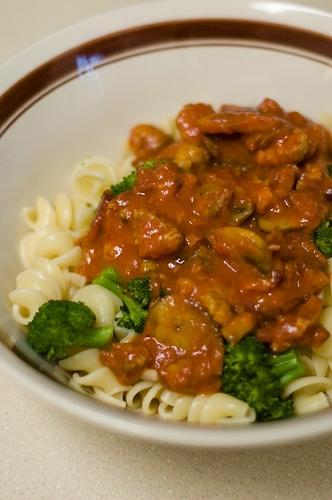broccoli: (218, 335, 306, 423), (27, 299, 114, 361), (92, 274, 150, 334), (109, 159, 156, 197), (313, 219, 332, 254)
mushroom: (198, 112, 307, 168), (151, 294, 210, 353), (208, 226, 274, 273), (200, 292, 256, 341), (254, 196, 314, 234), (234, 258, 286, 296), (172, 145, 210, 182), (198, 182, 232, 218), (268, 163, 302, 194), (230, 186, 252, 224)
